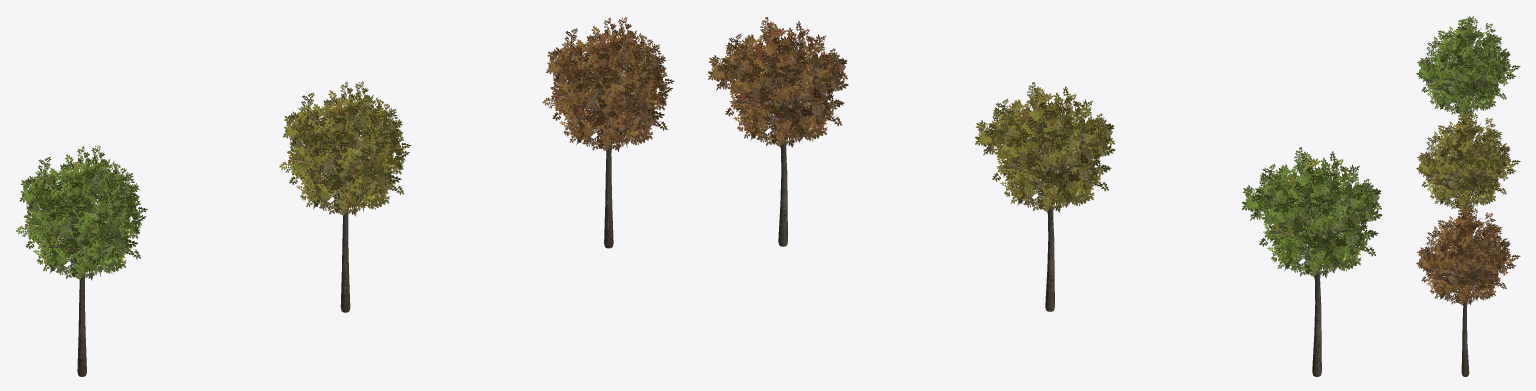
The picture shows the model from 3 angles, left to right: view 1: azimuth 30°, elevation 25°; view 2: azimuth 150°, elevation 25°; view 3: azimuth 270°, elevation 25°; orthographic projection. The views are drawn at different scales.
Parts seen in each view (by area): view 1: tak001_M_greenRed_0, tak002_M_red_0, tak_M_leaf_0, tak001_M_bark_0, tak002_M_bark_0, tak_M_bark_0; view 2: tak001_M_greenRed_0, tak002_M_red_0, tak_M_leaf_0, tak001_M_bark_0, tak_M_bark_0, tak002_M_bark_0; view 3: tak002_M_red_0, tak_M_leaf_0, tak001_M_greenRed_0, tak002_M_bark_0, tak001_M_bark_0, tak_M_bark_0.
Boxes of the visible parts, left/top/right/bottom form: tak001_M_greenRed_0: left=279, top=81, right=410, bottom=216; tak002_M_red_0: left=542, top=17, right=674, bottom=151; tak_M_leaf_0: left=16, top=145, right=147, bottom=280; tak001_M_bark_0: left=294, top=112, right=389, bottom=312; tak002_M_bark_0: left=558, top=48, right=652, bottom=248; tak_M_bark_0: left=31, top=176, right=126, bottom=376; tak001_M_greenRed_0: left=975, top=82, right=1115, bottom=212; tak002_M_red_0: left=708, top=17, right=848, bottom=147; tak_M_leaf_0: left=1242, top=147, right=1382, bottom=277; tak001_M_bark_0: left=1002, top=124, right=1090, bottom=311; tak_M_bark_0: left=1269, top=189, right=1357, bottom=376; tak002_M_bark_0: left=735, top=58, right=824, bottom=246; tak002_M_red_0: left=1416, top=205, right=1520, bottom=305; tak_M_leaf_0: left=1416, top=16, right=1520, bottom=114; tak001_M_greenRed_0: left=1416, top=111, right=1520, bottom=209; tak002_M_bark_0: left=1431, top=228, right=1507, bottom=376; tak001_M_bark_0: left=1432, top=134, right=1506, bottom=242; tak_M_bark_0: left=1432, top=39, right=1506, bottom=121.
Bounding box in the file's own units: 13.03 × 4.15 × 2.53.
Materials: 4 (4 with a texture image).
